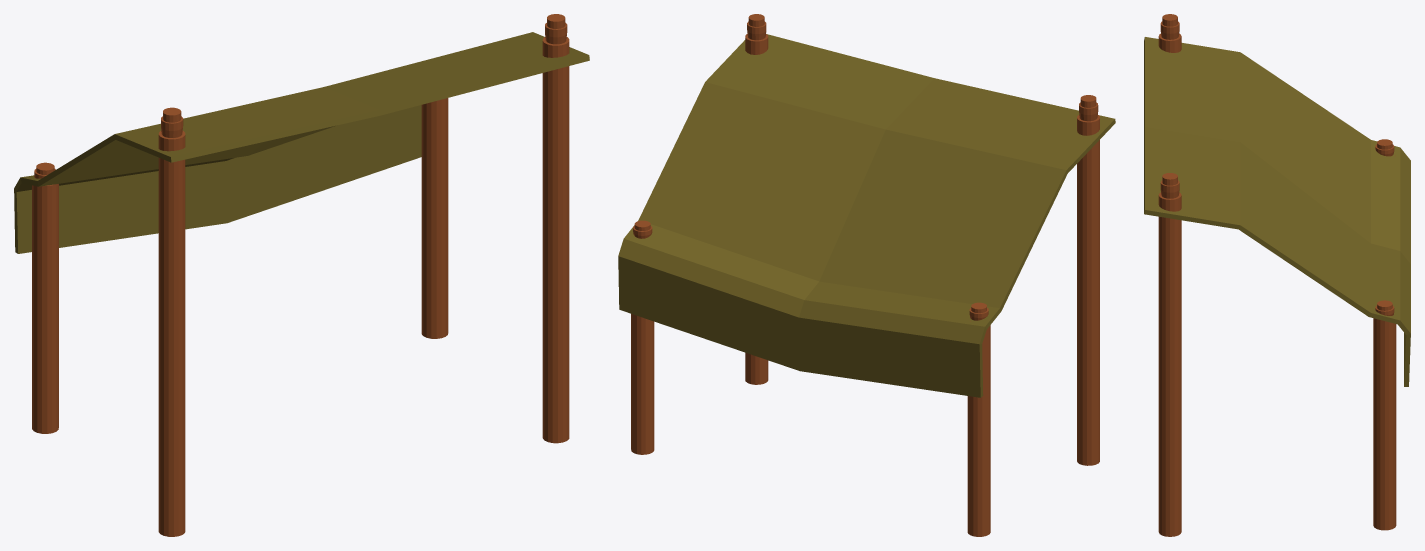
The model's file is AlhunzTenda.fbx.
3 views of the same model, side by side, from view 1: azimuth 30°, elevation 25°; view 2: azimuth 150°, elevation 25°; view 3: azimuth 270°, elevation 25° (orthographic). The views are drawn at different scales.
Parts seen in each view (by area): view 1: Plane.001; view 2: Plane.001; view 3: Plane.001.
Boxes of the visible parts, bbox=[...] form: Plane.001: bbox=[14, 14, 589, 536]; Plane.001: bbox=[618, 14, 1115, 536]; Plane.001: bbox=[1144, 14, 1410, 536].
Size of the model in its own units: 297 by 284 by 193.
